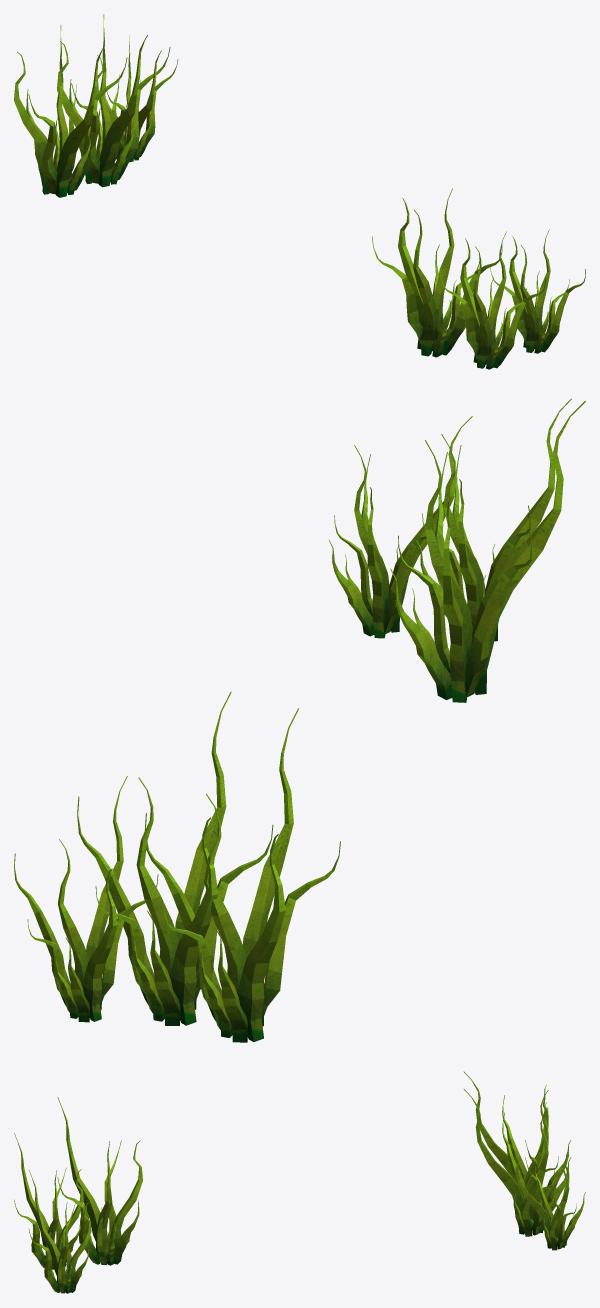
Rendered from coral2.obj.
The picture shows the model from 3 angles, top to bottom: view 1: azimuth 30°, elevation 25°; view 2: azimuth 150°, elevation 25°; view 3: azimuth 270°, elevation 25°; orthographic projection. The views are drawn at different scales.
Visible parts, largest first — view 1: Cube.006; view 2: Cube.006; view 3: Cube.006.
Boxes of the visible parts, <box> form: Cube.006: <box>14,14,585,369</box>; Cube.006: <box>14,398,585,1042</box>; Cube.006: <box>14,1071,585,1293</box>.
Bounding box in the file's own units: 7.53 × 4.63 × 16.58.
